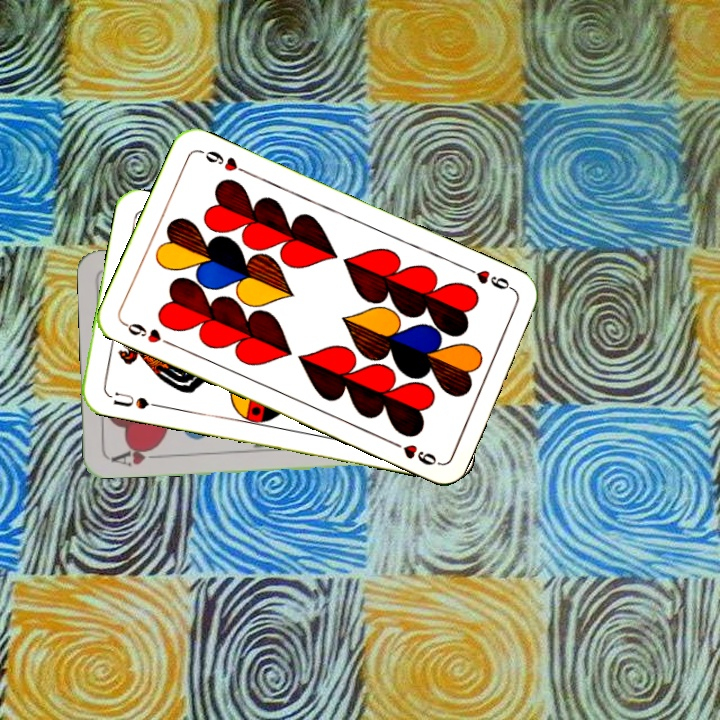H9: (119, 318, 176, 349), (461, 263, 517, 294)
HA: (107, 441, 166, 469)
SU: (104, 387, 163, 412)
